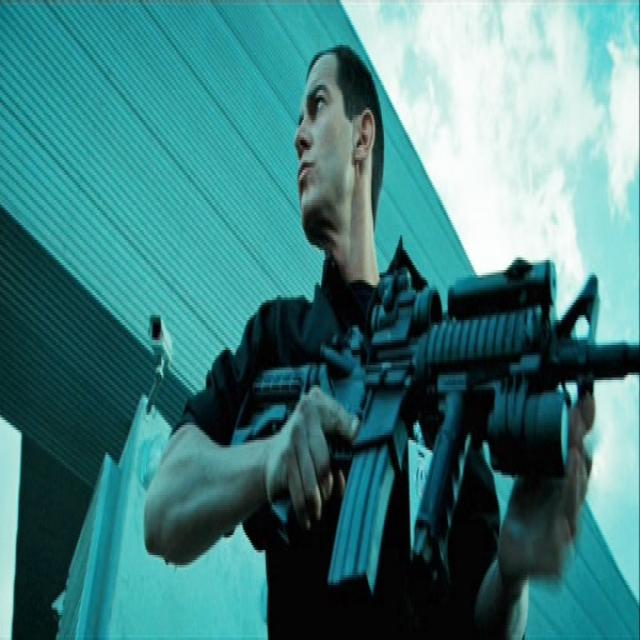rifle: (232, 241, 640, 611)
